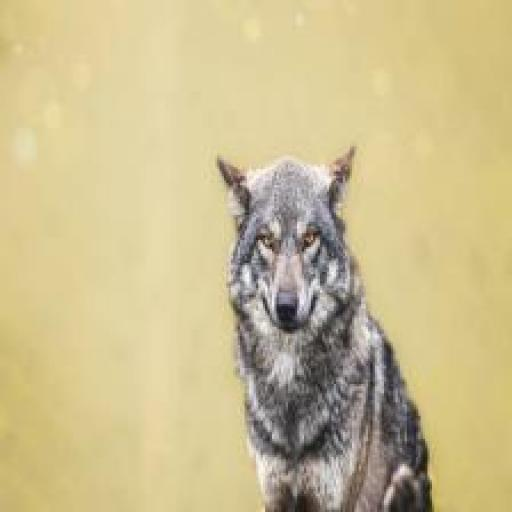wolf: (194, 93, 508, 512)
